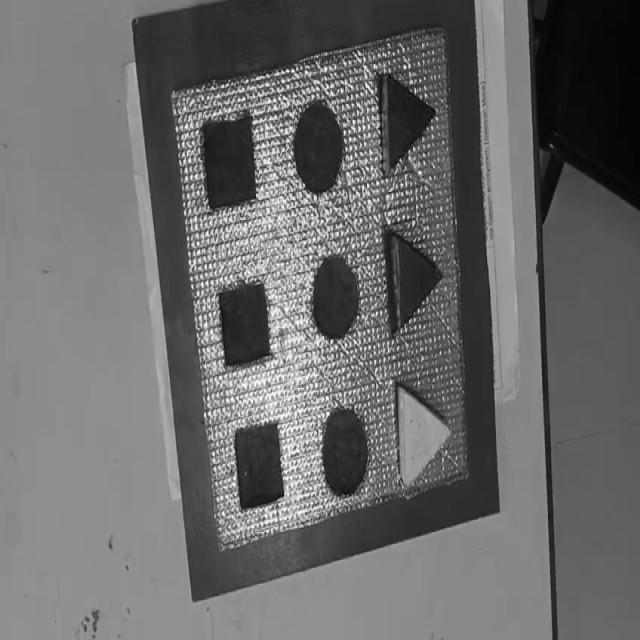btriangle: (381, 72, 436, 178)
mtcircle: (293, 98, 345, 195), (311, 253, 360, 341), (322, 406, 369, 497)
mtcube: (200, 112, 258, 212), (217, 280, 274, 370), (234, 420, 285, 512)
rtriangle: (386, 230, 444, 334)
wb: (172, 26, 467, 547)
ytriangle: (395, 380, 453, 487)
